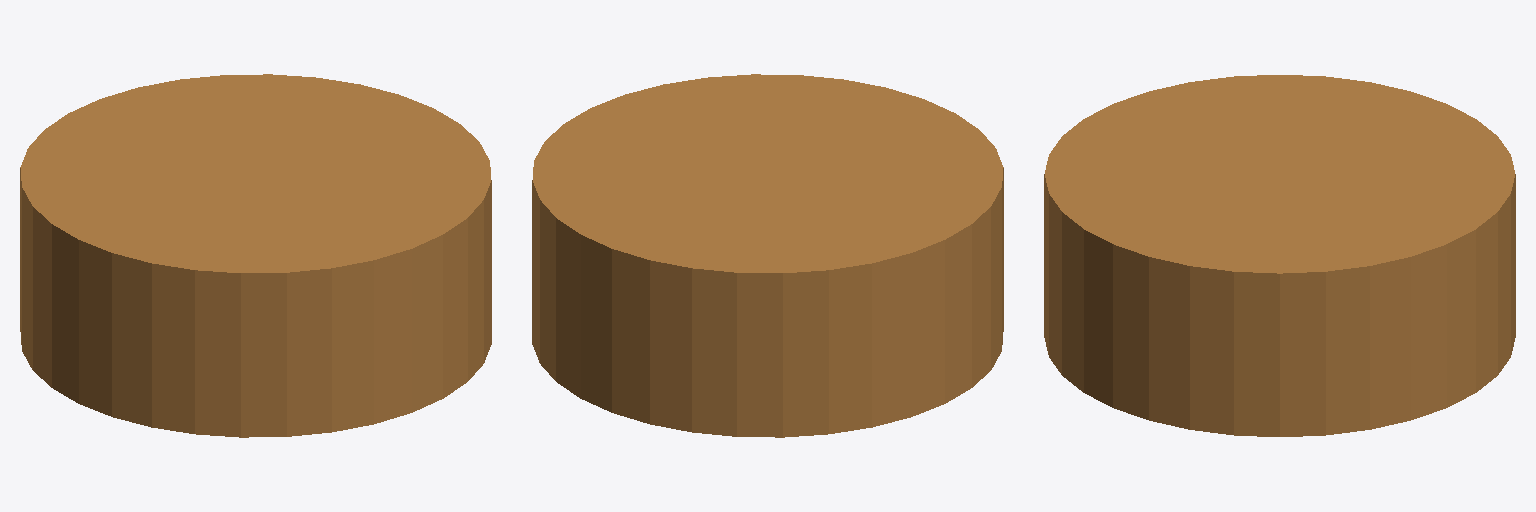
robot.urdf — tuna_fish_can:
<?xml version="1.0"?>
<robot name="tuna_fish_can">
  <link name="tuna_fish_can">
    <inertial>
      <origin xyz="0 0 -0.0044" rpy="0 0 0"/>
      <mass value="0.171"/>
      <inertia ixx="0.000083" ixy="0" ixz="0" iyy="0.000083" iyz="0" izz="0.000158"/>
    </inertial>
    <visual>
      <origin xyz="0 0 -0.0044" rpy="0 0 0"/>
      <geometry><cylinder radius="0.043" length="0.033"/></geometry>
      <material name="tuna_label"><color rgba="0.75 0.55 0.32 1"/></material>
    </visual>
    <collision>
      <origin xyz="0 0 -0.0044" rpy="0 0 0"/>
      <geometry><cylinder radius="0.043" length="0.033"/></geometry>
    </collision>
  </link>
</robot>

--- Facts derived from the render (not from the file) ---
3 views of the same robot in one strip: view 1: azimuth 30°, elevation 25°; view 2: azimuth 150°, elevation 25°; view 3: azimuth 270°, elevation 25° (orthographic).
Robot: tuna_fish_can — 1 links, 0 joints (none); root link tuna_fish_can; default pose: every joint at zero.
Links seen in each view (by area): view 1: tuna_fish_can; view 2: tuna_fish_can; view 3: tuna_fish_can.
Boxes of the visible links, x1=… form: tuna_fish_can: x1=20, y1=74, x2=491, y2=437; tuna_fish_can: x1=532, y1=74, x2=1003, y2=437; tuna_fish_can: x1=1044, y1=75, x2=1515, y2=436.
Size in the robot's own frame: 0.086 by 0.086 by 0.033 metres.
Geometry: primitives only (box / cylinder / sphere), no mesh files.
